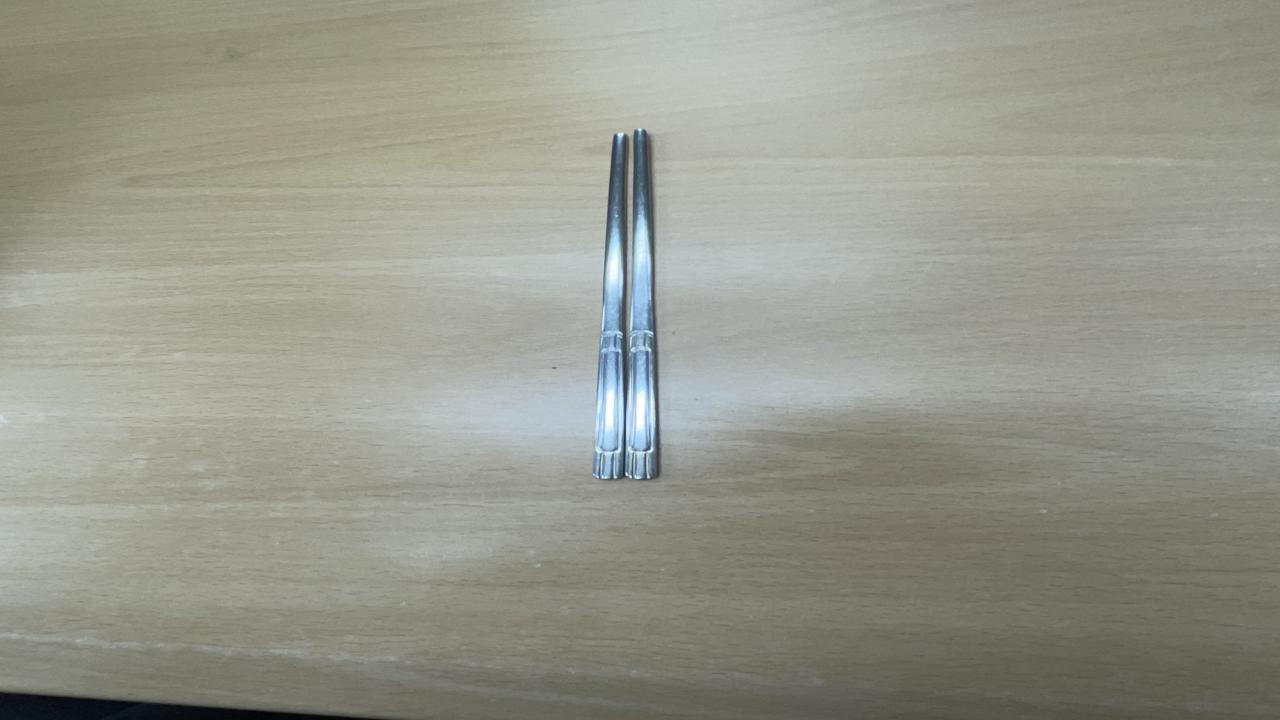chopstick: (582, 127, 673, 487)
